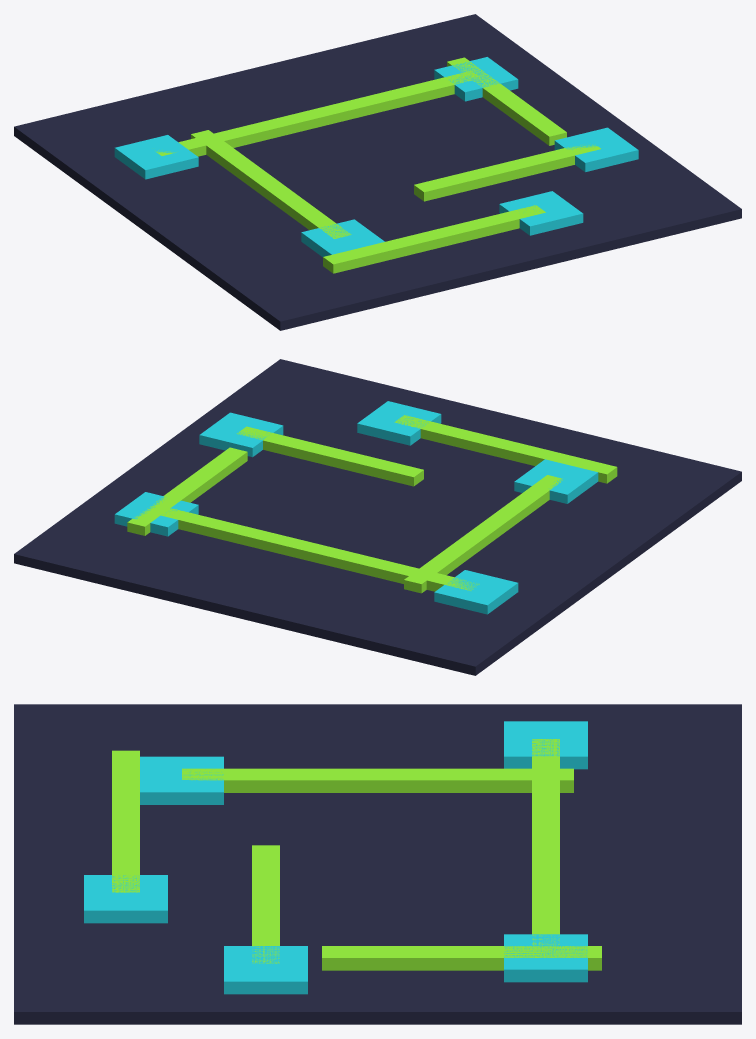
File: env_r8_circuit_pad.glb
3 renders of one model, top to bottom at view 1: azimuth 30°, elevation 25°; view 2: azimuth 150°, elevation 25°; view 3: azimuth 270°, elevation 25°, orthographic. The views are drawn at different scales.
Visible parts, largest first — view 1: env_r8_circuit_pad; view 2: env_r8_circuit_pad; view 3: env_r8_circuit_pad.
Part boxes in pixels (<box>): env_r8_circuit_pad: <box>14,14,741,330</box>; env_r8_circuit_pad: <box>14,359,741,675</box>; env_r8_circuit_pad: <box>14,704,741,1024</box>.
Bounding box in the file's own units: 2.6 × 0.1 × 2.6.
1 material, 1 textured.
